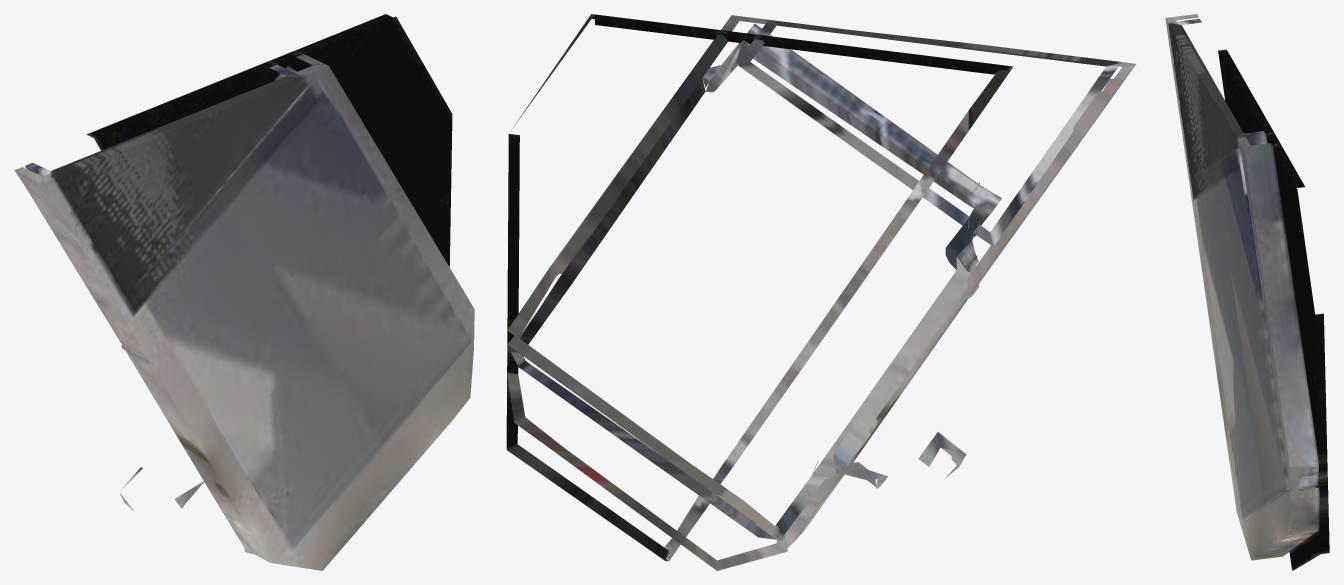
The model's file is tile_090.glb.
3 renders of one model, left to right at view 1: azimuth 30°, elevation 25°; view 2: azimuth 150°, elevation 25°; view 3: azimuth 270°, elevation 25°, orthographic. The views are drawn at different scales.
Size of the model in its own units: 50.32 by 47.25 by 17.1.
Materials: 1 (1 with a texture image).
